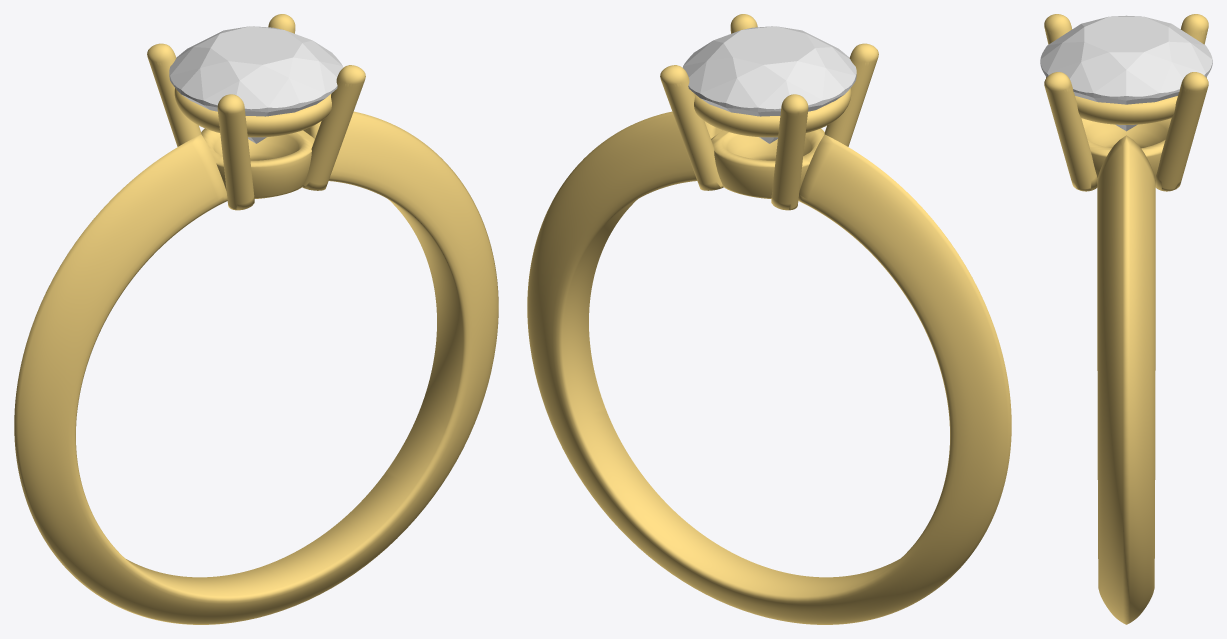
File: diamond-round-yellowgold-4prong-knifeedge-nosidestones.glb
3 views of the same model, side by side, from view 1: azimuth 30°, elevation 25°; view 2: azimuth 150°, elevation 25°; view 3: azimuth 270°, elevation 25° (orthographic).
Visible parts, largest first — view 1: metal, stone; view 2: metal, stone; view 3: metal, stone.
Part boxes in pixels (x1,y1,x2,y2): metal: [14, 14, 498, 624]; stone: [169, 26, 343, 143]; metal: [527, 14, 1011, 624]; stone: [682, 26, 856, 143]; metal: [1044, 14, 1208, 624]; stone: [1040, 15, 1212, 131].
Bounding box in the file's own units: 20.64 × 23.31 × 6.44.
